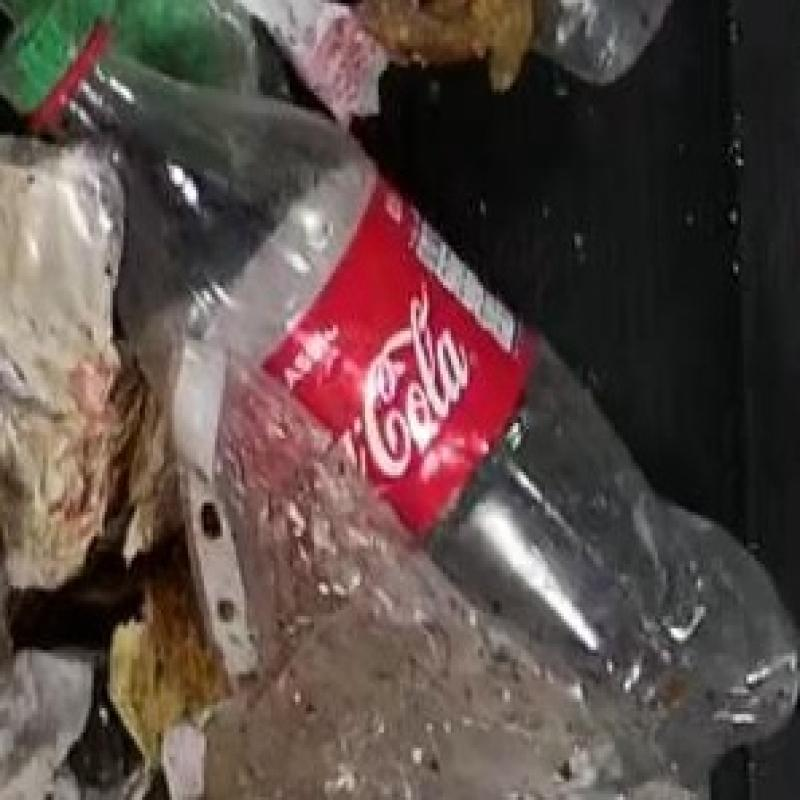botella: (0, 0, 800, 792)
